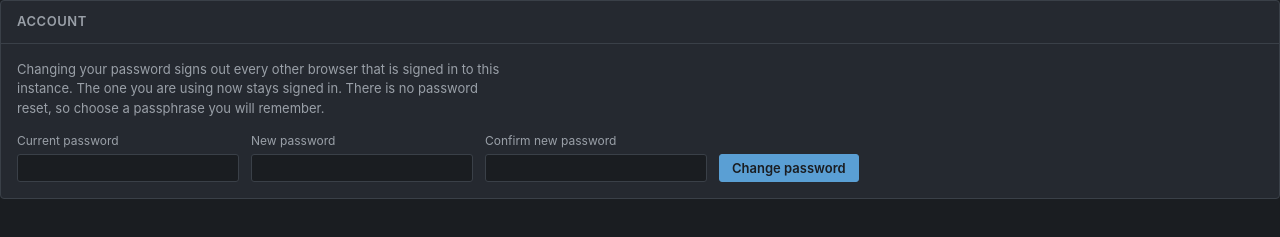
Test: Account › renders the server's exact rejection
The image size is (1280, 237).
In the password field labelled "Current password": (128, 168) [17,154,239,182], type "example-wrong-passphrase"
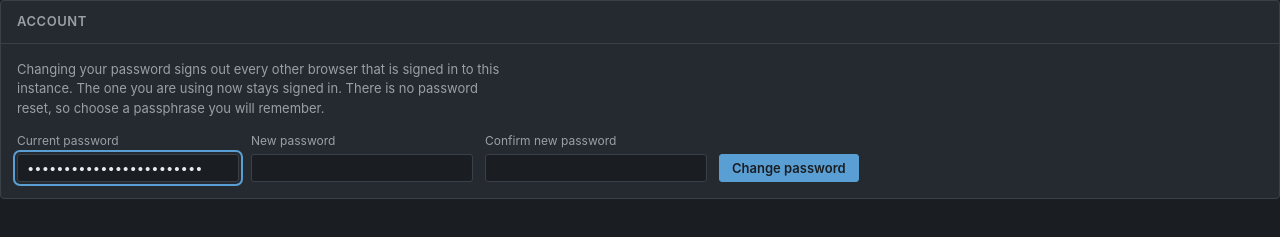
In the password field labelled "New password": (362, 168) [251,154,473,182], type "example-rotated-passphrase"
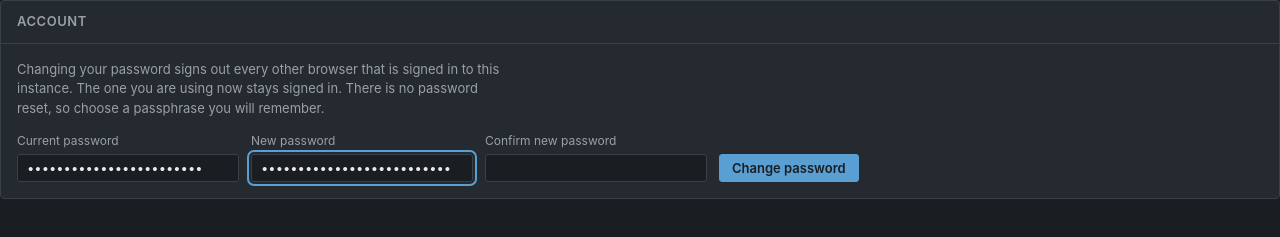
In the password field labelled "Confirm new password": (596, 168) [485,154,707,182], type "example-rotated-passphrase"
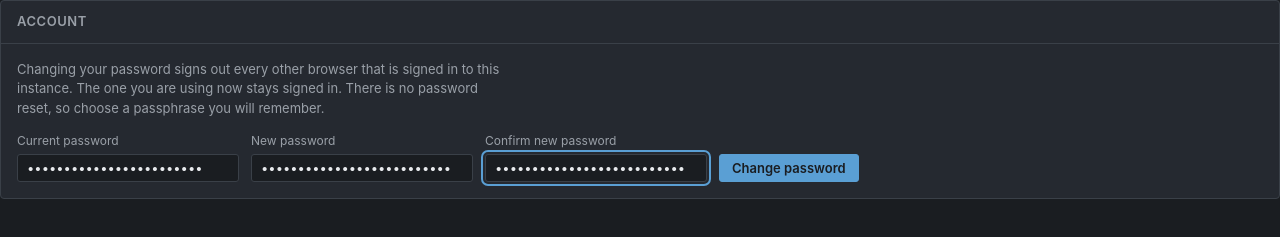
Click the button "Change password": click(789, 168) [719,154,859,182]
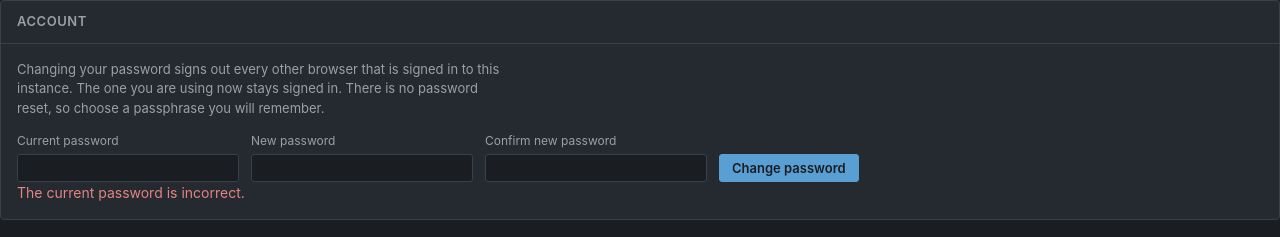
expect the text "The current password is incorrect." is shown: met, box [17,184,245,201]
